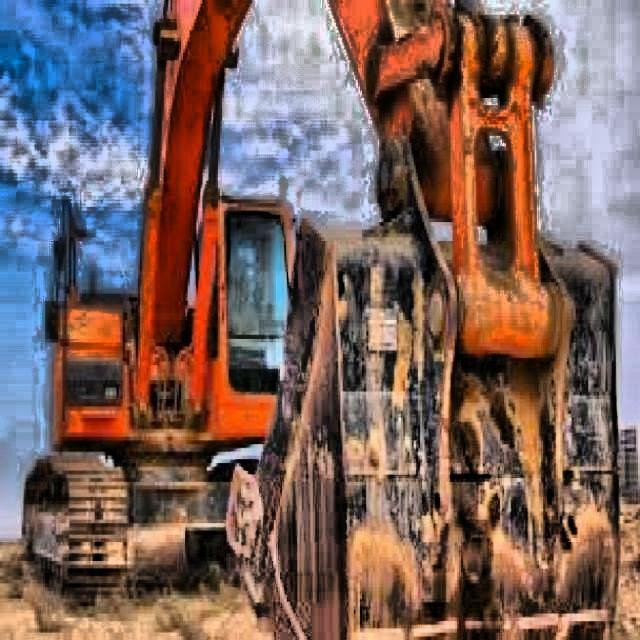bull_dozer/loader/grader: (21, 0, 624, 640)
person: (232, 254, 252, 307)
